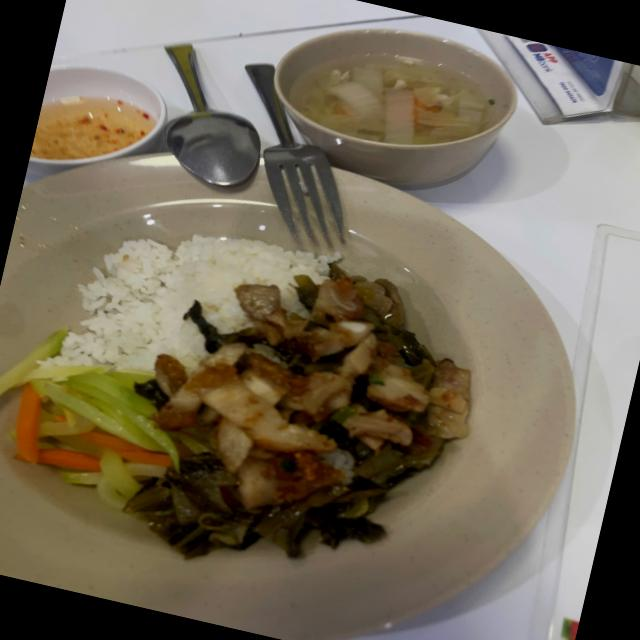canh cai: (293, 58, 492, 145)
com: (42, 235, 327, 371)
nuoc mam: (29, 97, 154, 159)
rau: (0, 331, 179, 506)
